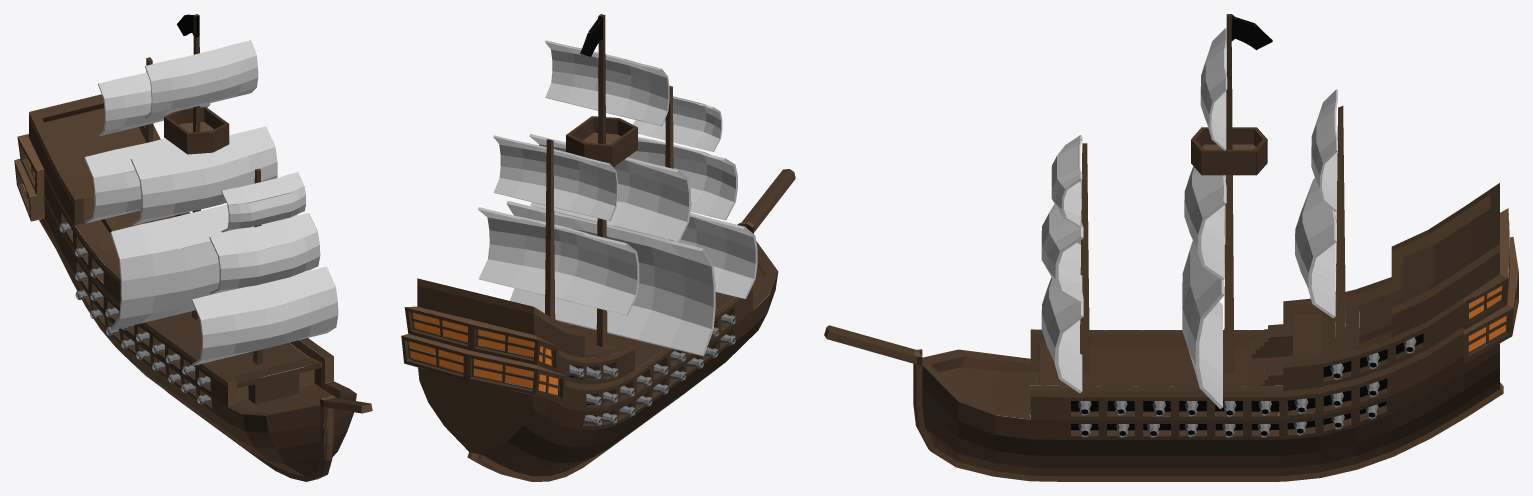
File: pirate_ship_low_poly.glb
3 renders of one model, left to right at view 1: azimuth 30°, elevation 25°; view 2: azimuth 150°, elevation 25°; view 3: azimuth 270°, elevation 25°, orthographic. The views are drawn at different scales.
Visible parts, largest first — view 1: Ship; view 2: Ship; view 3: Ship.
Part boxes in pixels (<box>): Ship: <box>14,14,372,481</box>; Ship: <box>401,14,795,481</box>; Ship: <box>824,14,1518,481</box>.
Size of the model in its own units: 336 by 708 by 962.
1 material, 1 textured.
